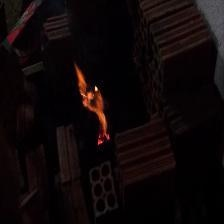fire: (67, 57, 125, 157)
